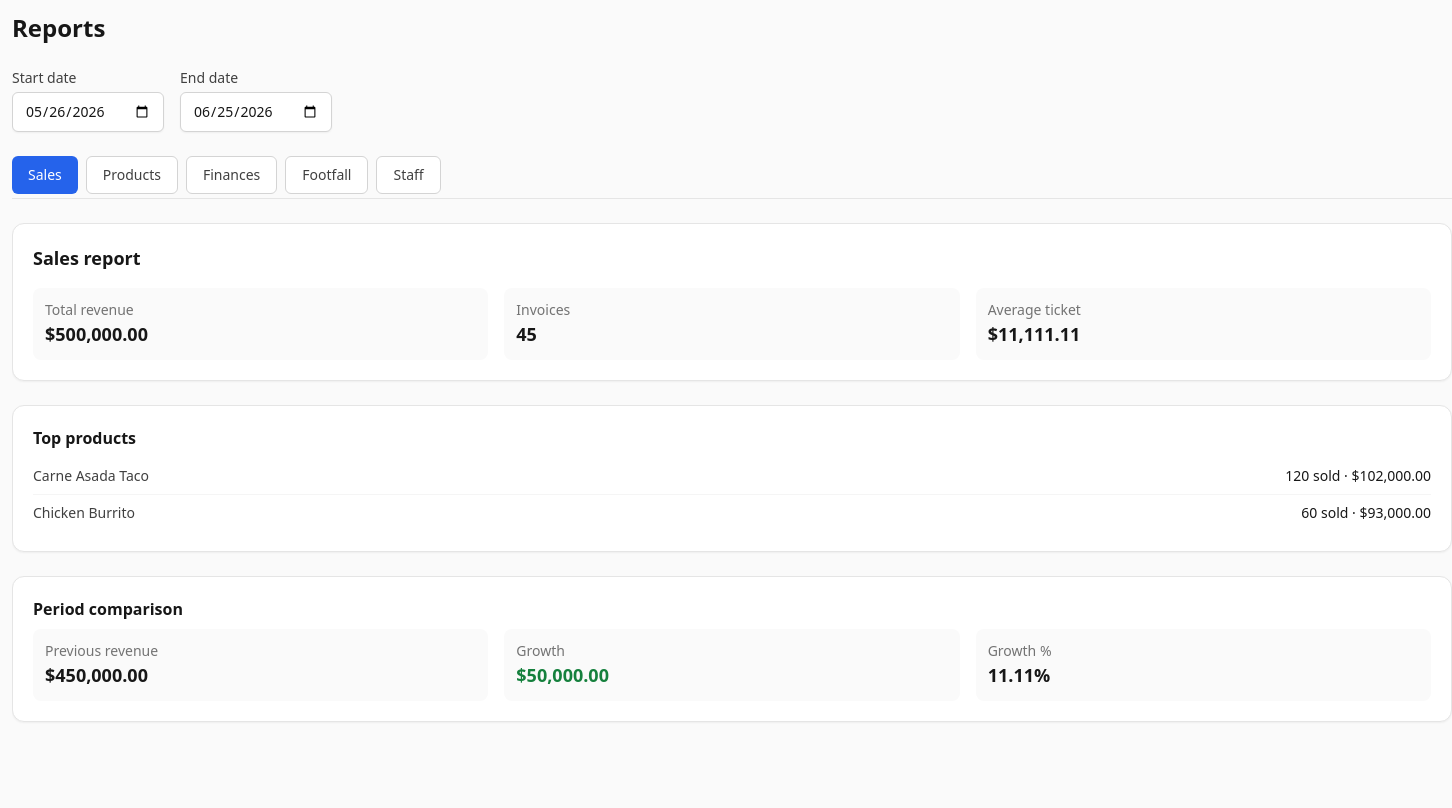
ReportsPage › switches to staff planning tab and renders staff planning report
Step 1. Click the button "Staff" → click(409, 175), box [376,156,441,194]
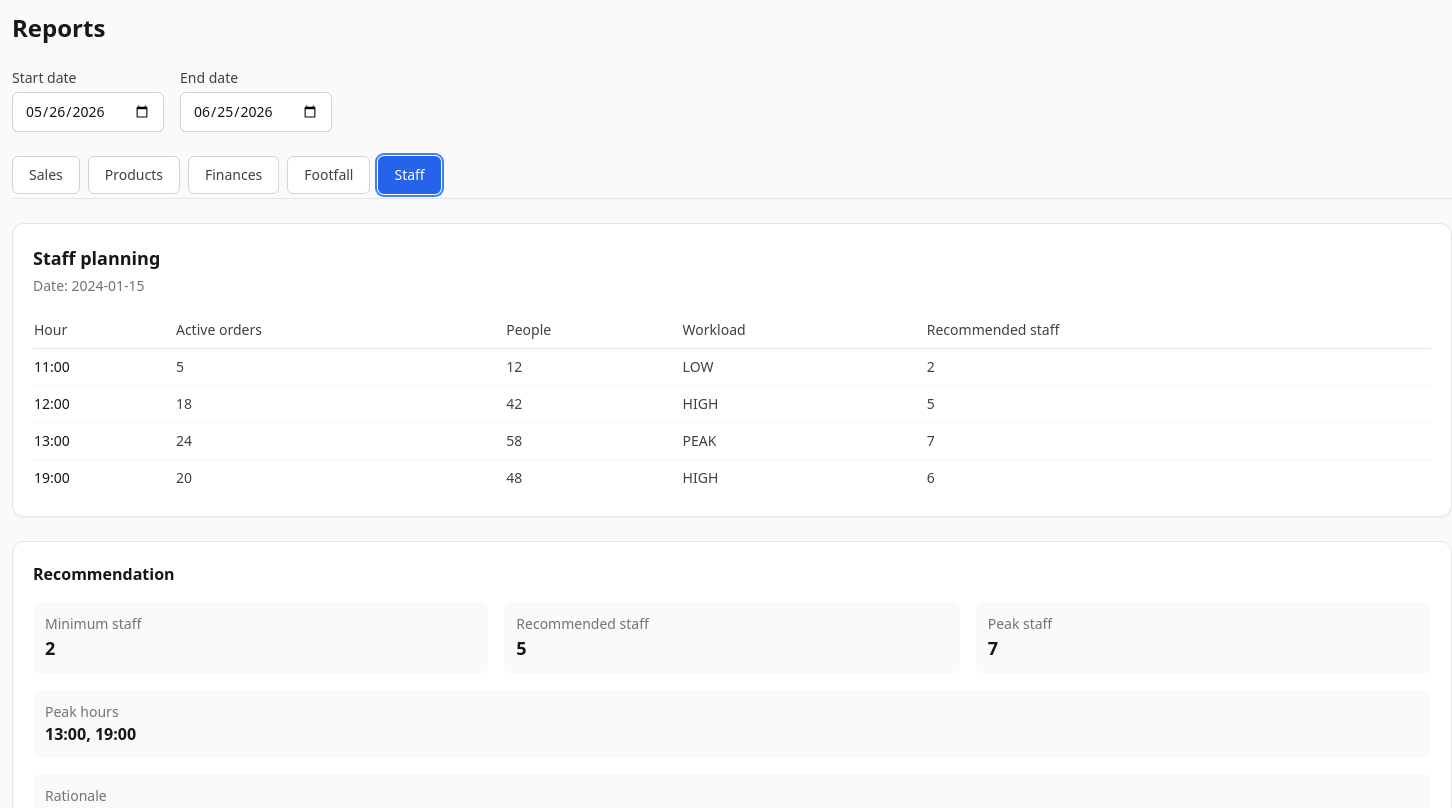
Result: the heading "Staff planning" is shown at [33,246,160,270]
